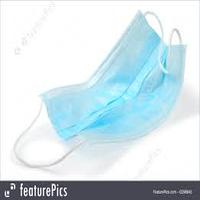flu mask: (38, 5, 190, 155)
